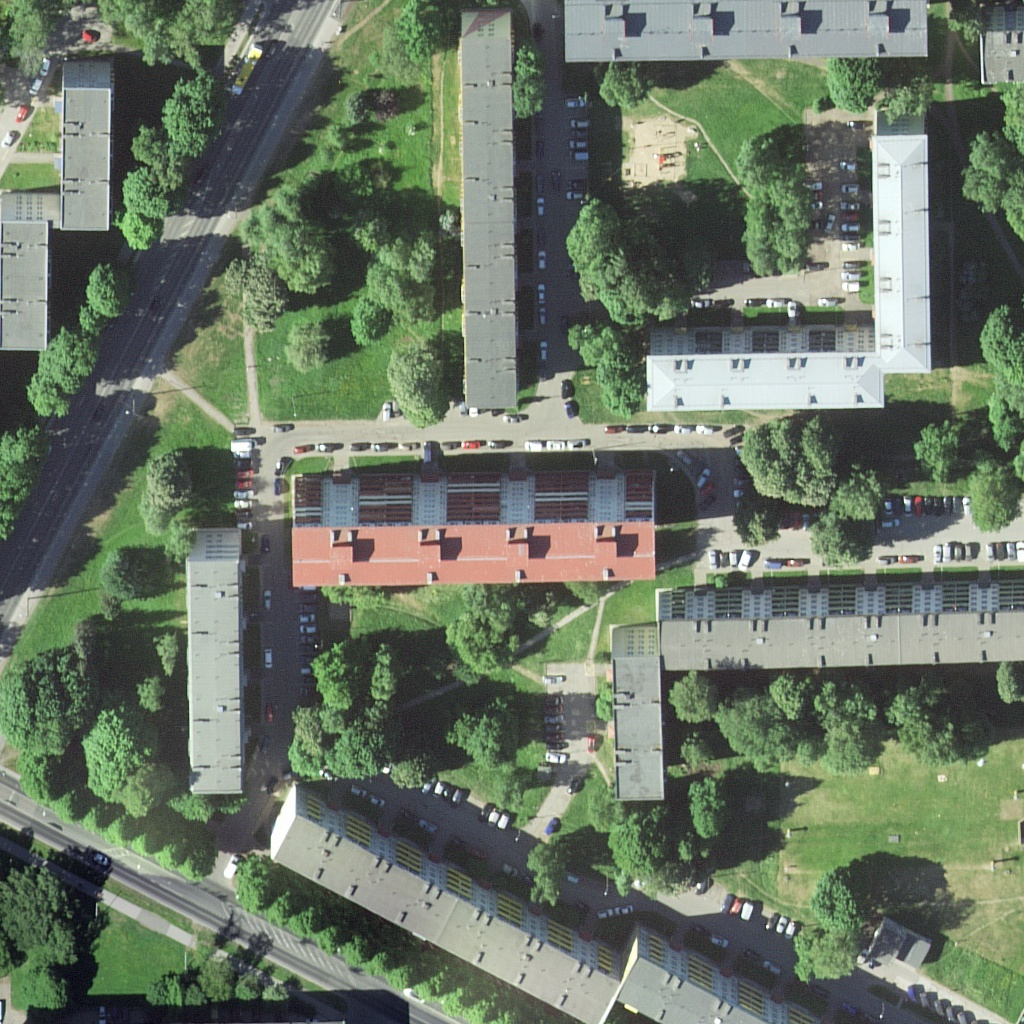building: (270, 783, 620, 1024), (295, 475, 662, 588), (662, 582, 1022, 668), (460, 9, 520, 412), (557, 1, 923, 64), (641, 322, 888, 415), (871, 108, 936, 373), (187, 529, 245, 797), (625, 929, 774, 1024), (607, 619, 669, 802), (60, 59, 115, 235), (1, 193, 54, 356)
